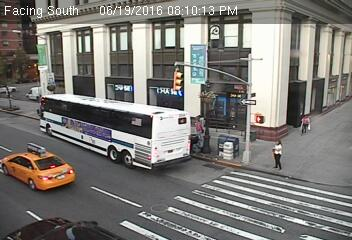neg: (144, 116, 166, 145), (182, 187, 204, 216), (94, 149, 115, 178), (218, 130, 239, 158), (54, 134, 73, 159), (57, 88, 76, 112), (138, 180, 156, 205), (123, 58, 140, 82), (181, 143, 197, 164), (238, 83, 254, 104), (267, 57, 283, 78)
pos: (266, 138, 289, 168), (299, 113, 314, 133)
